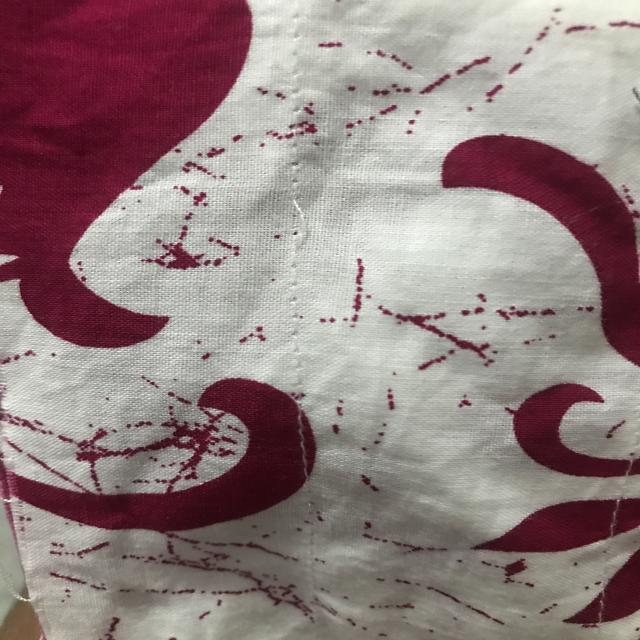skip: (273, 189, 340, 262)
